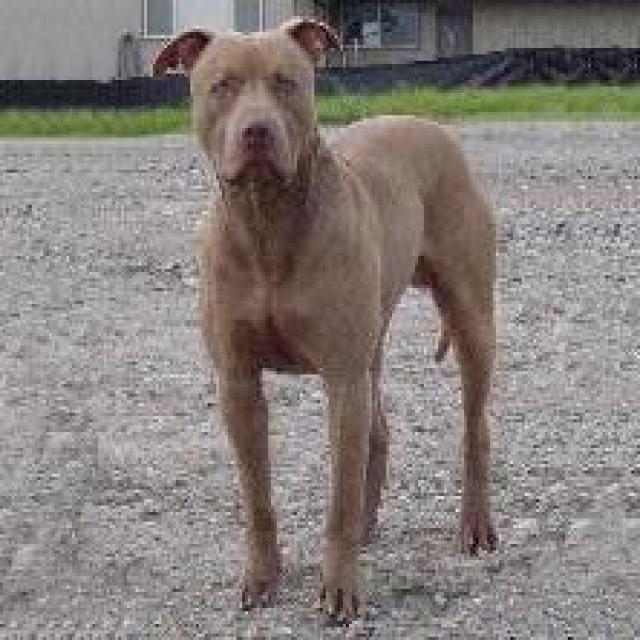staffordshire_bullterrier: (153, 16, 507, 624)
